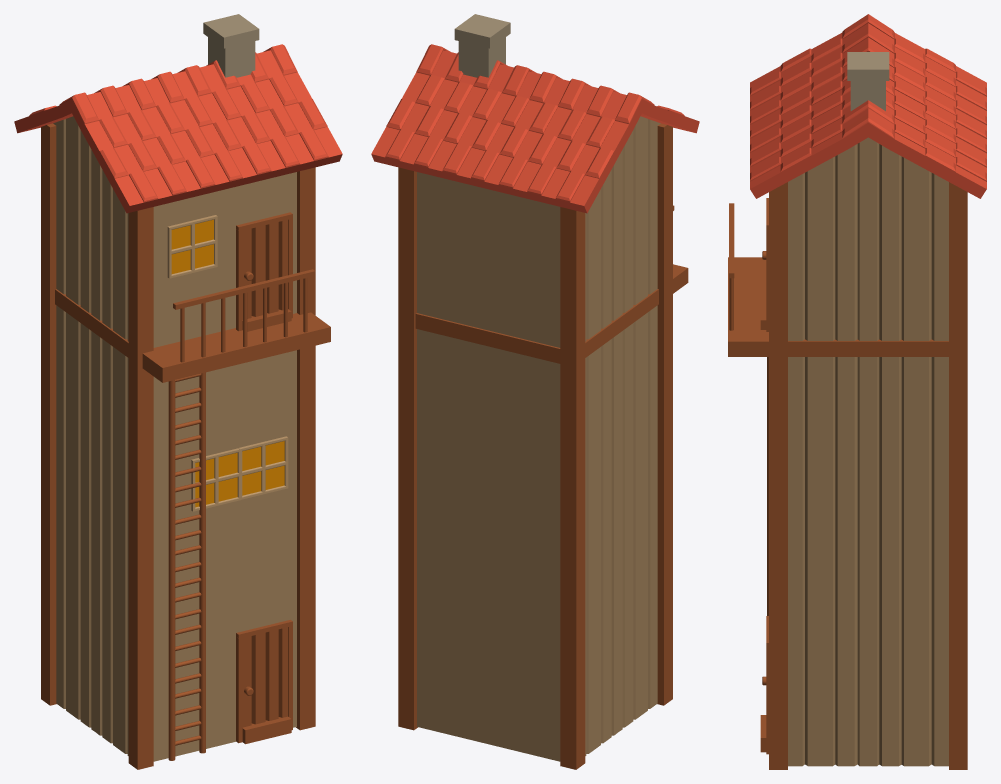
File: TallerHouse.fbx
3 renders of one model, left to right at view 1: azimuth 30°, elevation 25°; view 2: azimuth 150°, elevation 25°; view 3: azimuth 270°, elevation 25°, orthographic. The views are drawn at different scales.
Visible parts, largest first — view 1: 前壁, 横カヴェ, 柱, 屋根, はしご, 床, ドア.002, ドア, 円柱.002, 煙突, 窓.002, ドア枠.002 (+7 smaller); view 2: 前壁, 横カヴェ, 柱, 屋根, 床, 煙突; view 3: 横カヴェ, 屋根, 柱, 床, 煙突, 円柱.002, はしご.
Boxes of the visible parts, box(x1,y1,x2,y2) form: 前壁: box(153, 172, 296, 761); 横カヴェ: box(53, 116, 128, 755); 柱: box(41, 123, 315, 769); 屋根: box(14, 44, 342, 213); はしご: box(168, 372, 205, 760); 床: box(55, 289, 330, 382); ドア.002: box(242, 627, 287, 727); ドア: box(242, 219, 287, 319); 円柱.002: box(173, 269, 315, 362); 煙突: box(203, 14, 259, 77); 窓.002: box(242, 441, 284, 495); ドア枠.002: box(236, 619, 292, 743); 前壁: box(417, 172, 560, 761); 横カヴェ: box(585, 116, 660, 755); 柱: box(398, 123, 672, 769); 屋根: box(371, 44, 699, 213); 床: box(415, 264, 688, 363); 煙突: box(454, 14, 510, 77); 横カヴェ: box(788, 137, 948, 766); 屋根: box(750, 14, 986, 198); 柱: box(769, 182, 967, 769); 床: box(728, 257, 948, 356); 煙突: box(847, 52, 889, 111); 円柱.002: box(729, 203, 734, 330); はしご: box(767, 357, 768, 615).
Bounding box in the file's own units: 191 × 577 × 196.
